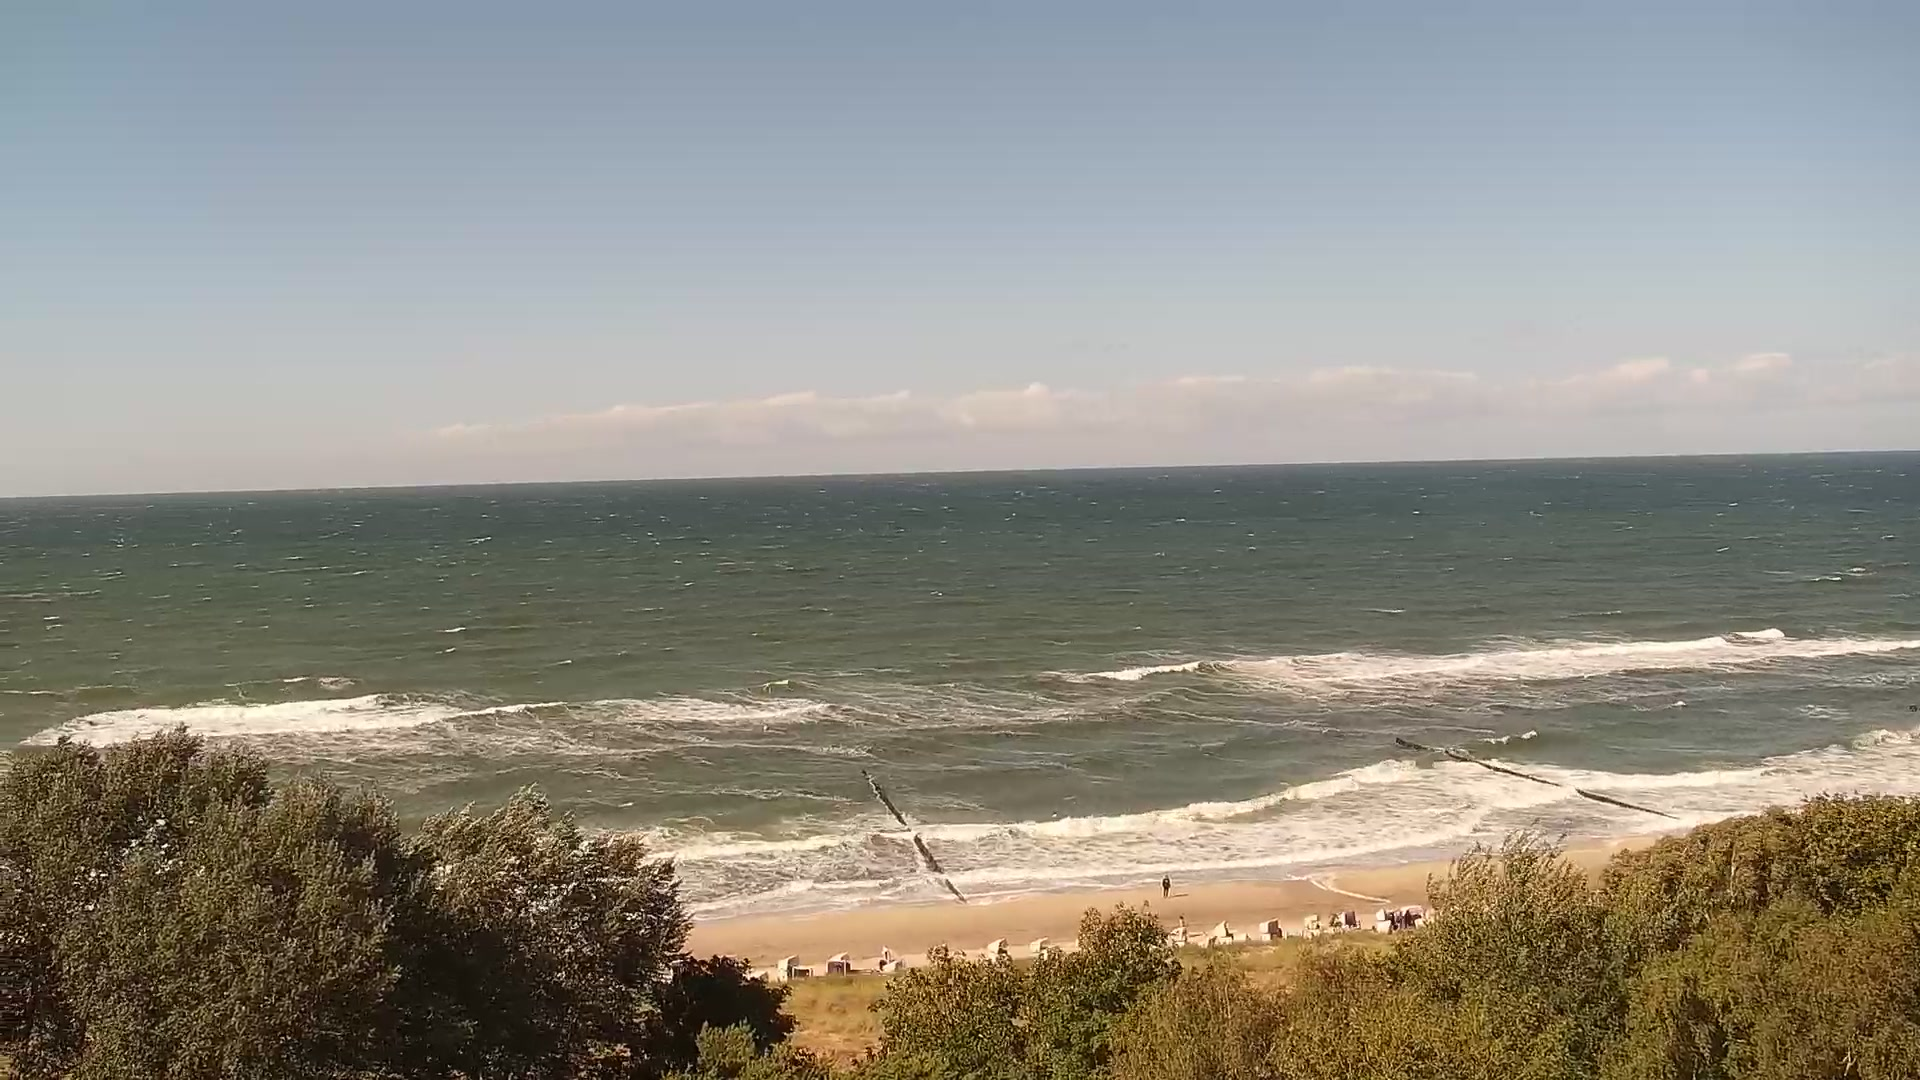human: (1162, 874, 1171, 898), (1395, 909, 1403, 929), (1404, 908, 1411, 928)
